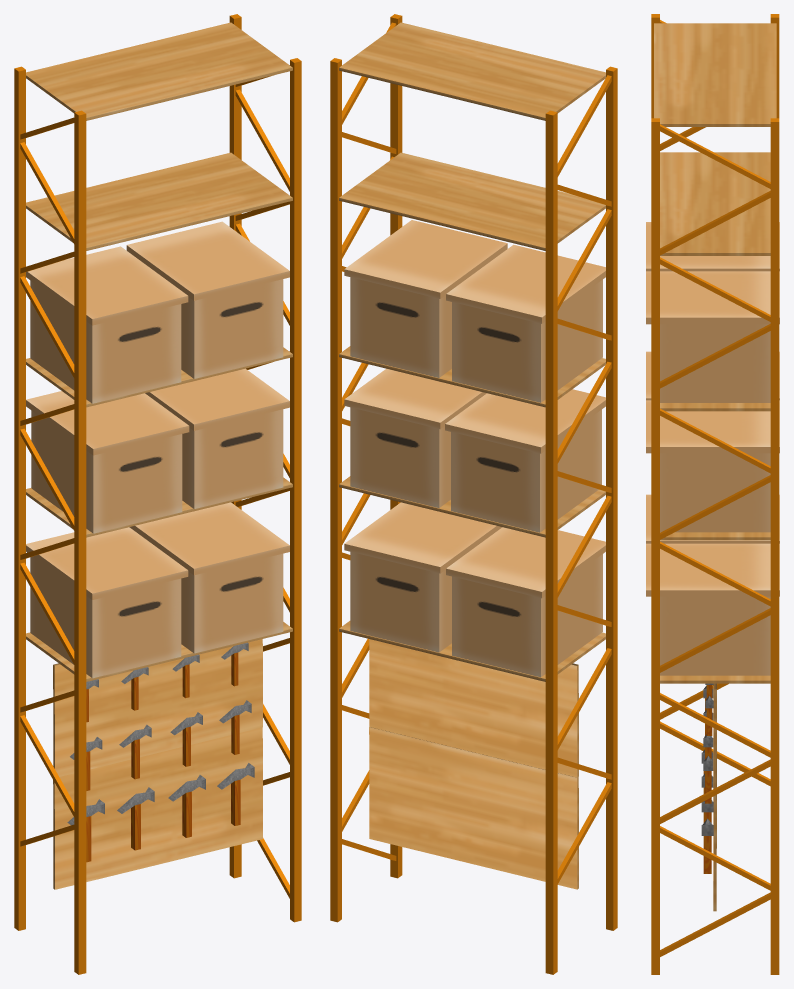
The model's file is Hammer_Rack.fbx.
3 views of the same model, side by side, from view 1: azimuth 30°, elevation 25°; view 2: azimuth 150°, elevation 25°; view 3: azimuth 270°, elevation 25° (orthographic).
Parts seen in each view (by area): view 1: Hammer_Rack; view 2: Hammer_Rack; view 3: Hammer_Rack.
Boxes of the visible parts, box(x1,y1,x2,y2) form: Hammer_Rack: box(14, 14, 301, 974); Hammer_Rack: box(330, 14, 617, 974); Hammer_Rack: box(646, 14, 779, 974).
Size of the model in its own units: 2 by 7.37 by 1.05.
